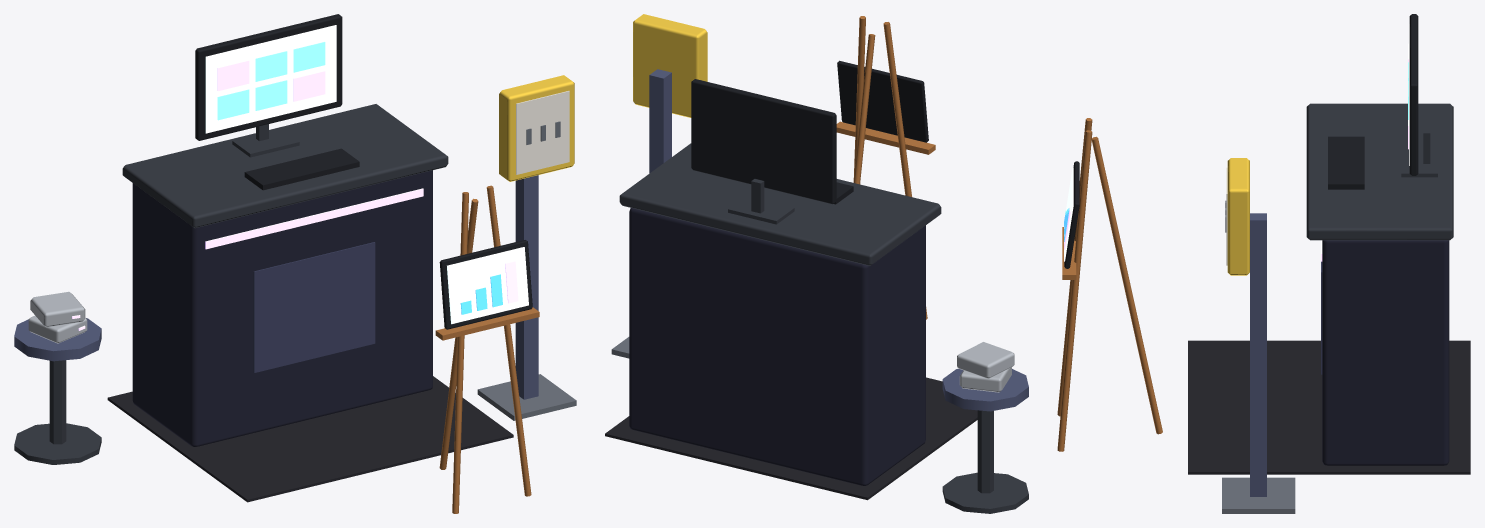
Rendered from station_special_1.glb.
3 renders of one model, left to right at view 1: azimuth 30°, elevation 25°; view 2: azimuth 150°, elevation 25°; view 3: azimuth 270°, elevation 25°, orthographic. The views are drawn at different scales.
Visible parts, largest first — view 1: station_special_1; view 2: station_special_1; view 3: station_special_1.
Part boxes in pixels (x1,y1,x2,y2): station_special_1: [14, 14, 576, 513]; station_special_1: [605, 14, 1028, 513]; station_special_1: [1057, 14, 1470, 513].
Bounding box in the file's own units: 1.94 × 1.41 × 1.46.
